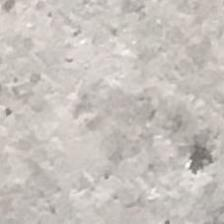Non_Crack: (27, 46, 212, 197)
